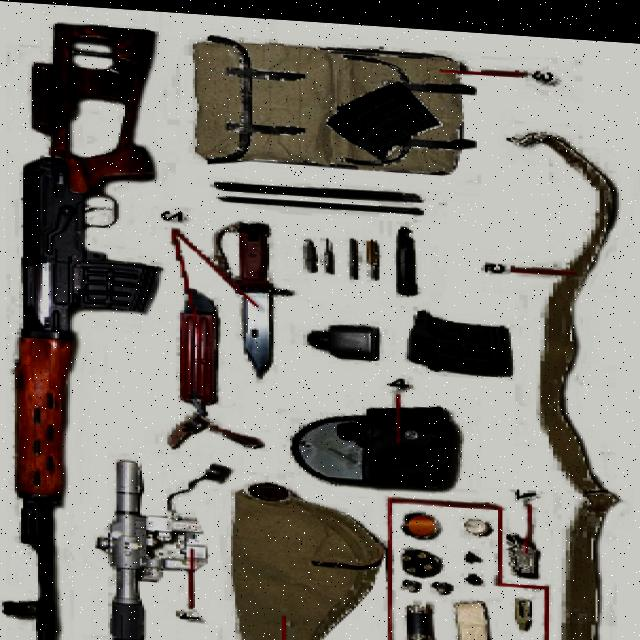firearm: (0, 15, 165, 640)
knife: (234, 216, 295, 377)
